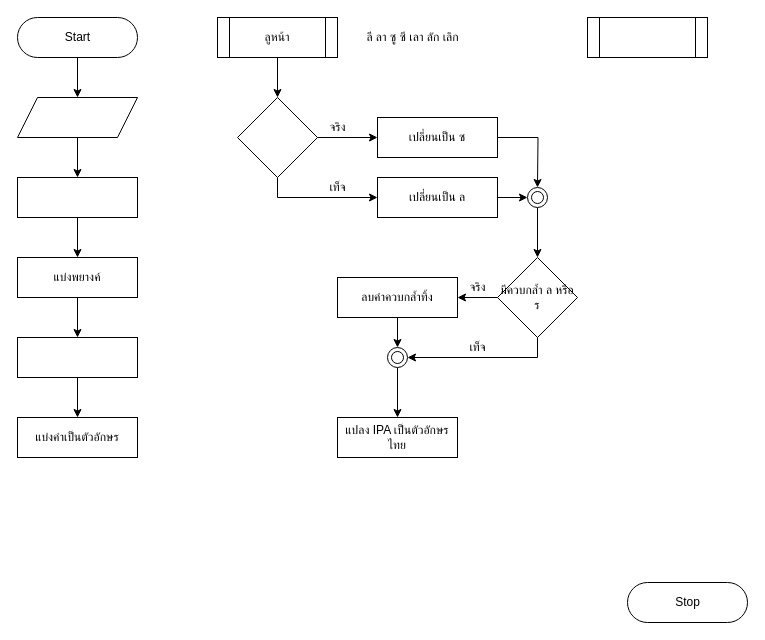
This 765x640 diagram has some shape labels left out. Here are the shapes that lost their labels. From the top down, the centre of each, then its label:
At pixel 647 37: "ลูหลัง".
At pixel 77 117: "พิมพ์คำไทย".
At pixel 277 137: "พยัญชนะต้นเป็น ล".
At pixel 77 197: "แปลงเป็นคำอ่าน IPA".
At pixel 77 357: "สร้างดิกชักนารี".
